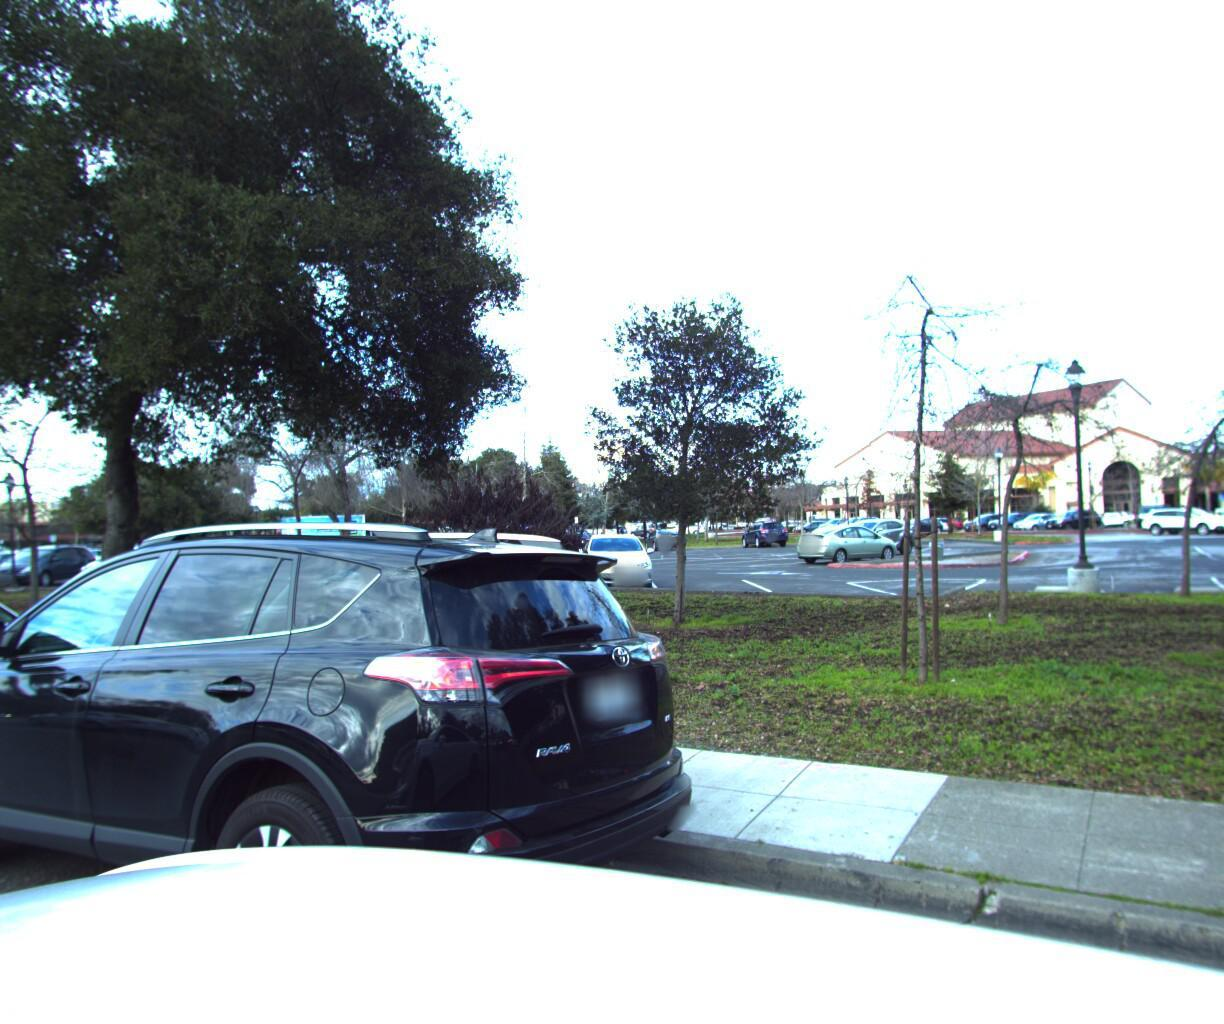car: (0, 497, 745, 1024), (0, 559, 110, 841)
